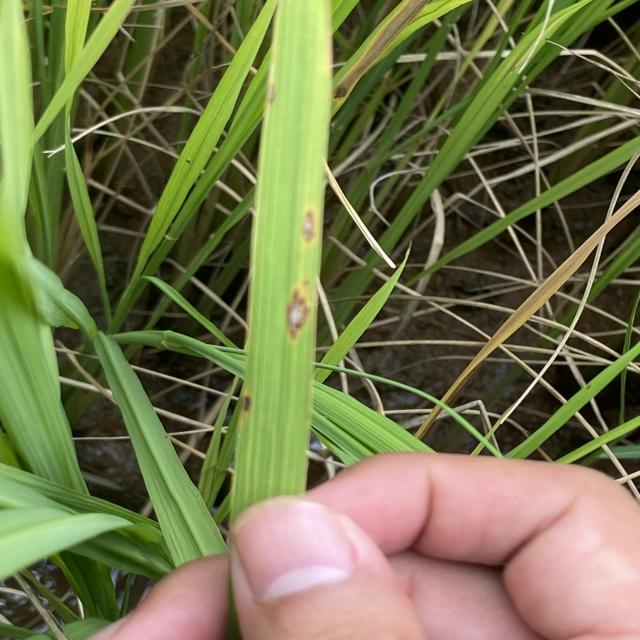Dao on: (286, 280, 311, 340), (302, 210, 316, 244)
